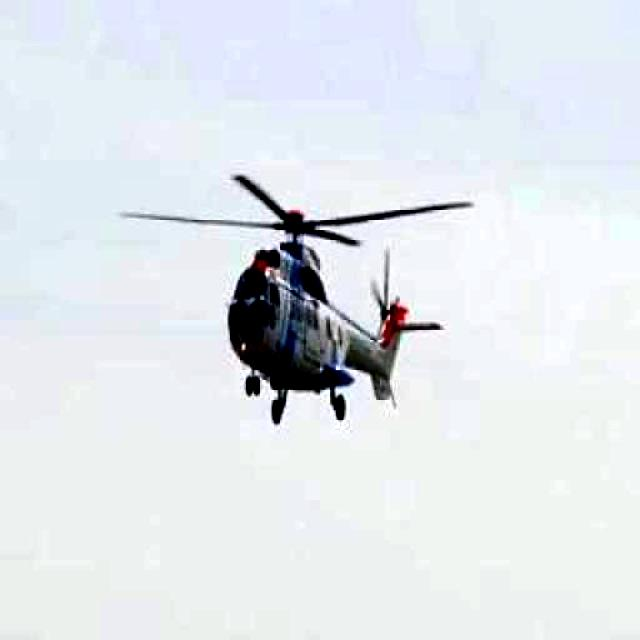drone: (108, 144, 489, 450)
